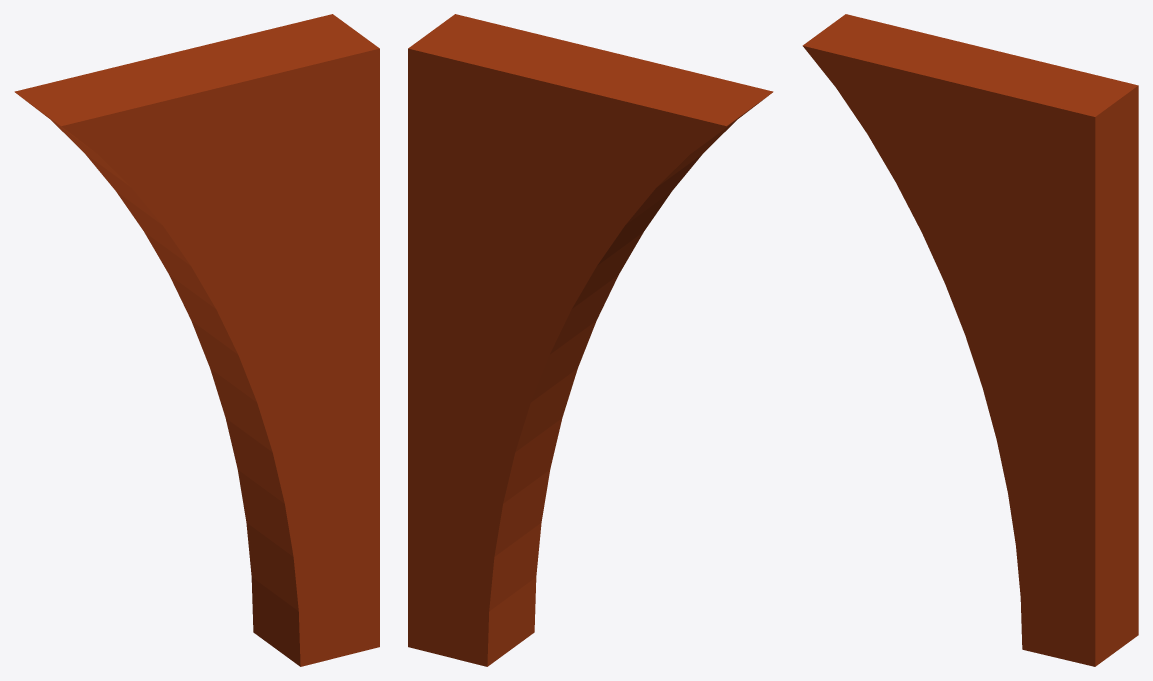
File: Arc.fbx
3 views of the same model, side by side, from view 1: azimuth 30°, elevation 25°; view 2: azimuth 150°, elevation 25°; view 3: azimuth 330°, elevation 25° (orthographic). The views are drawn at different scales.
Parts seen in each view (by area): view 1: Arc; view 2: Arc; view 3: Arc.
Boxes of the visible parts, <box> form: Arc: <box>14,14,379,666</box>; Arc: <box>408,14,773,666</box>; Arc: <box>802,14,1138,666</box>.
Bounding box in the file's own units: 39 × 70.06 × 10.
